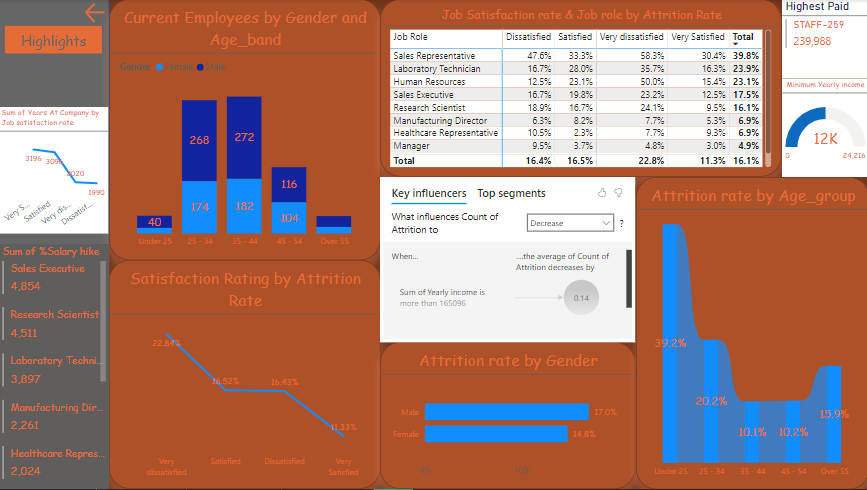

The dashboard page shown, as its layout file describes it:
{"tool":"powerbi","page":{"name":"HR view 2","canvas":[1280,720],"ordinal":1},"visuals":[{"type":"actionButton","box":[27,159,109,40],"z":0},{"type":"shape","box":[0,0,163,720],"z":1000},{"type":"actionButton","box":[124,0,39,40],"z":2000},{"type":"actionButton","box":[11,40,142,40],"z":3000},{"type":"columnChart","title":"Current Employees by Gender and Age_band","fields":{"Category":["HR data.CF_age band"],"Y":["Sum(HR data.CF_current Employee)"],"Series":["HR data.Gender"]},"box":[163,0,399,384],"z":4000},{"type":"pivotTable","title":"Job Satisfaction rate & Job role by Attrition Rate","fields":{"Rows":["HR data.Job Role"],"Values":["HR data.Attrition rate"],"Columns":["HR data.Job satisfaction rate"]},"box":[562,0,590,261],"z":5000},{"type":"lineChart","title":"Satisfaction Rating by Attrition Rate","fields":{"Category":["HR data.Job satisfaction rate"],"Y":["HR data.Attrition rate"]},"box":[163,384,399,336],"z":6000},{"type":"clusteredBarChart","title":"Attrition rate by Gender","fields":{"Category":["HR data.Gender"],"Y":["HR data.Attrition rate"]},"box":[562,491,375,229],"z":7000},{"type":"ribbonChart","title":"Attrition rate by Age_group","fields":{"Category":["HR data.CF_age band"],"Y":["HR data.Attrition rate"]},"box":[937,261,343,459],"z":8000},{"type":"keyDriversVisual","fields":{"Target":["HR data.Count of Attrition"],"ExplainBy":["Sum(HR data.Yearly income)"]},"box":[562,261,375,230],"z":9000},{"type":"multiRowCard","title":"Sum of %Salary hike","fields":{"Values":["Sum(HR data.Percent Salary Hike)","HR data.Job Role"]},"box":[1.5,360,161.6,360],"z":10000},{"type":"gauge","title":"Minimum Yearly income","fields":{"Y":["Min(HR data.Yearly income)"]},"box":[1152,117,128,144],"z":11000},{"type":"lineChart","fields":{"Y":["Sum(HR data.Years At Company)"],"Category":["HR data.Job satisfaction rate"]},"box":[0,143,163,206],"z":12000},{"type":"multiRowCard","title":"Highest Paid","fields":{"Values":["Sum(HR data.Yearly income)","HR data.emp no"]},"box":[1152,0,128,110],"z":13001}]}

Visuals, with their boxes in screenshot pixels (x1, y1, x2, y2), scaled from the page's 1280x720 canvas onto the 867x490 screenshot:
actionButton: bbox=[18, 108, 92, 135]
shape: bbox=[0, 0, 110, 489]
actionButton: bbox=[84, 0, 110, 27]
actionButton: bbox=[7, 27, 104, 54]
"Current Employees by Gender and Age_band" columnChart: bbox=[110, 0, 381, 261]
"Job Satisfaction rate & Job role by Attrition Rate" pivotTable: bbox=[381, 0, 780, 178]
"Satisfaction Rating by Attrition Rate" lineChart: bbox=[110, 261, 381, 489]
"Attrition rate by Gender" clusteredBarChart: bbox=[381, 334, 635, 489]
"Attrition rate by Age_group" ribbonChart: bbox=[635, 178, 866, 489]
keyDriversVisual - HR data.Count of Attrition x Sum(HR data.Yearly income): bbox=[381, 178, 635, 334]
"Sum of %Salary hike" multiRowCard: bbox=[1, 245, 110, 489]
"Minimum Yearly income" gauge: bbox=[780, 80, 866, 178]
lineChart - Sum(HR data.Years At Company) x HR data.Job satisfaction rate: bbox=[0, 97, 110, 238]
"Highest Paid" multiRowCard: bbox=[780, 0, 866, 75]
